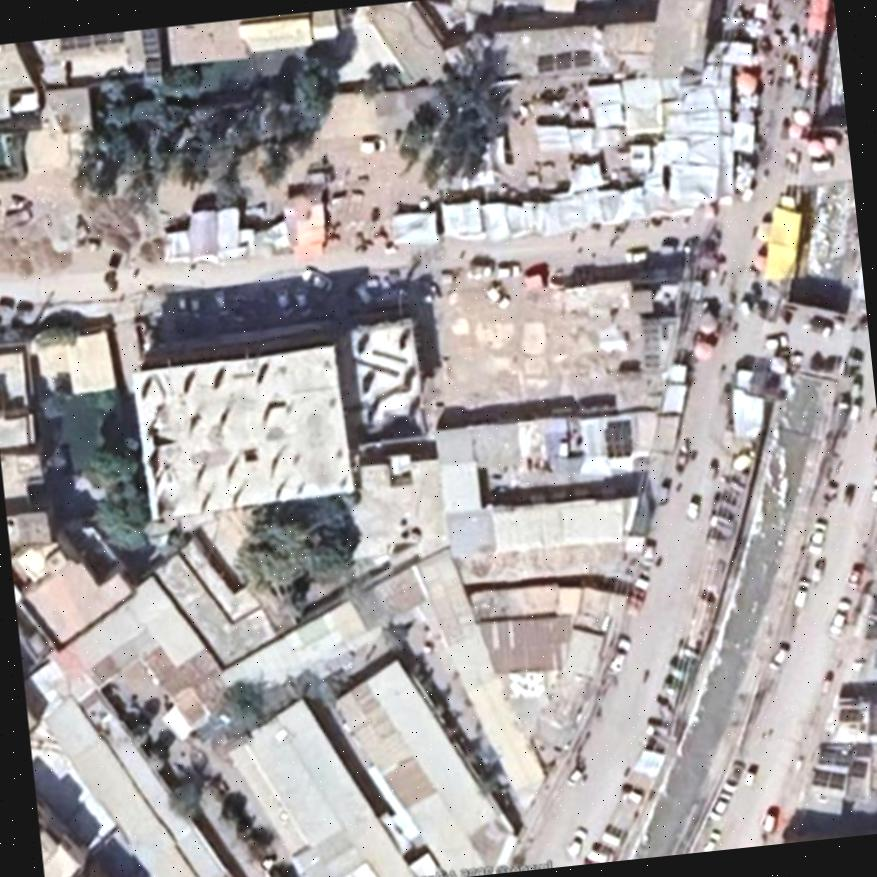Solarpanel: (54, 30, 129, 49)
